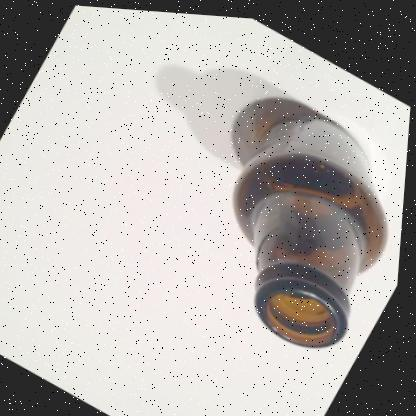Glass: (234, 92, 391, 340)
